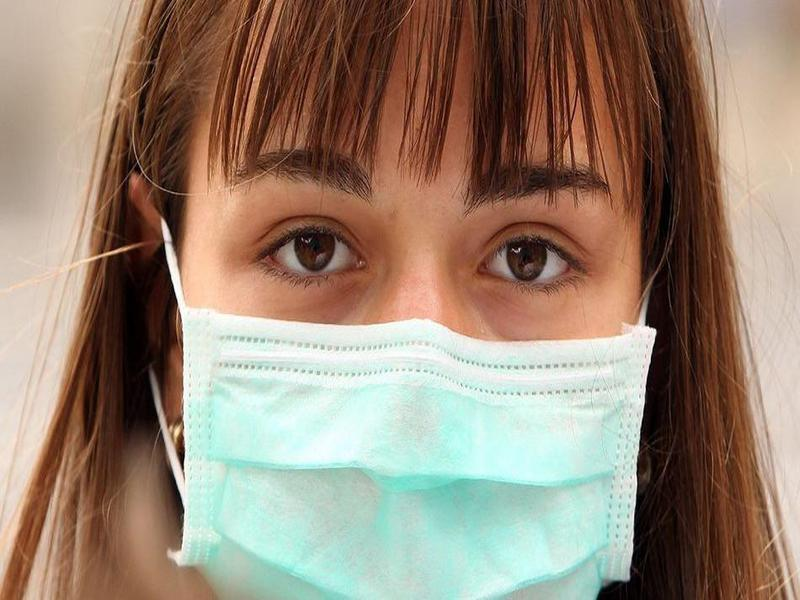with_mask: (122, 1, 657, 600)
